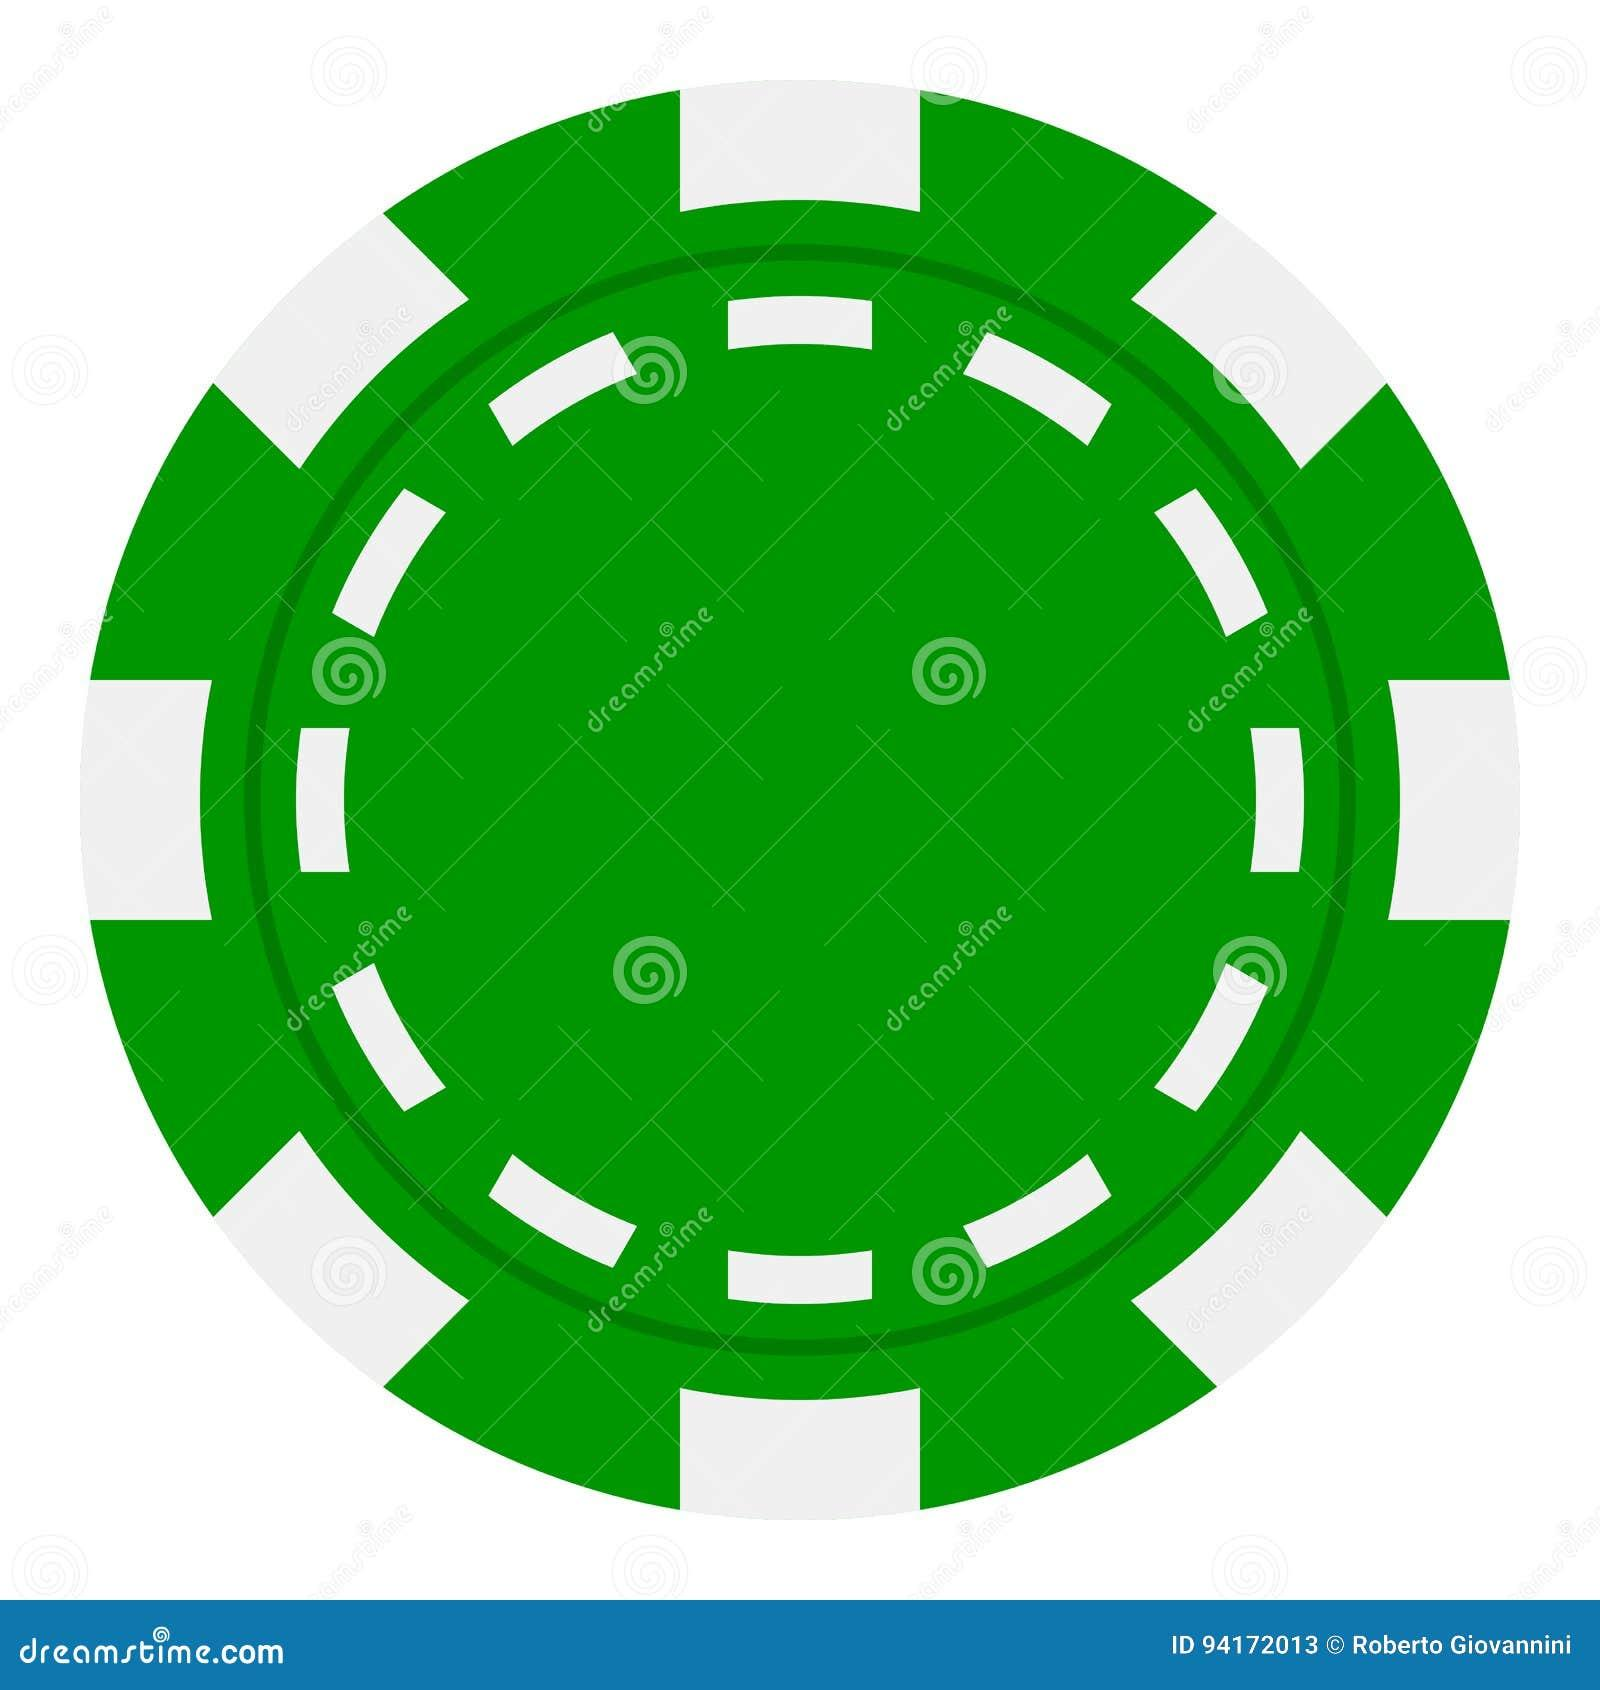chip-green: (83, 83, 1516, 1519)
